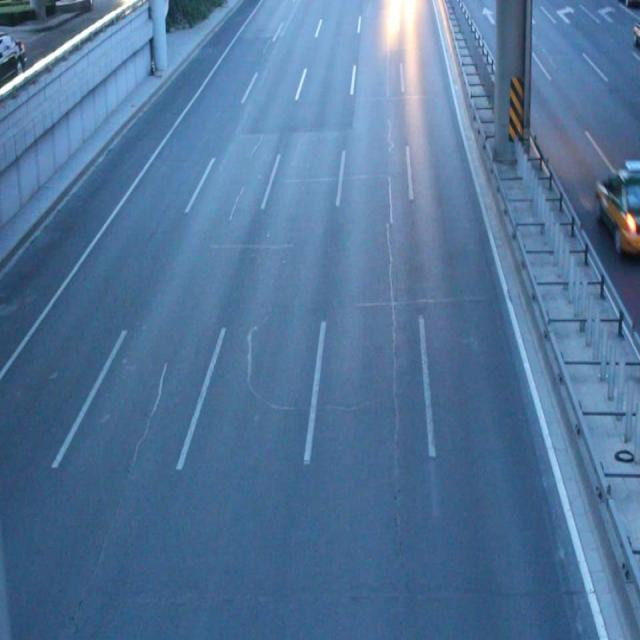car: (594, 158, 640, 256)
